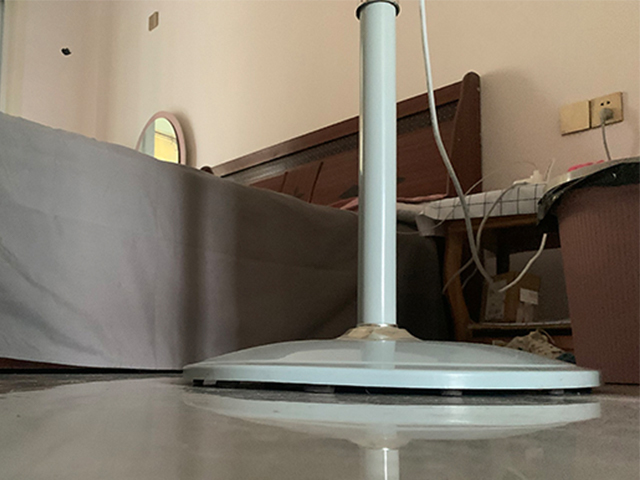bed: (1, 70, 482, 380)
trashcan: (540, 157, 640, 385)
